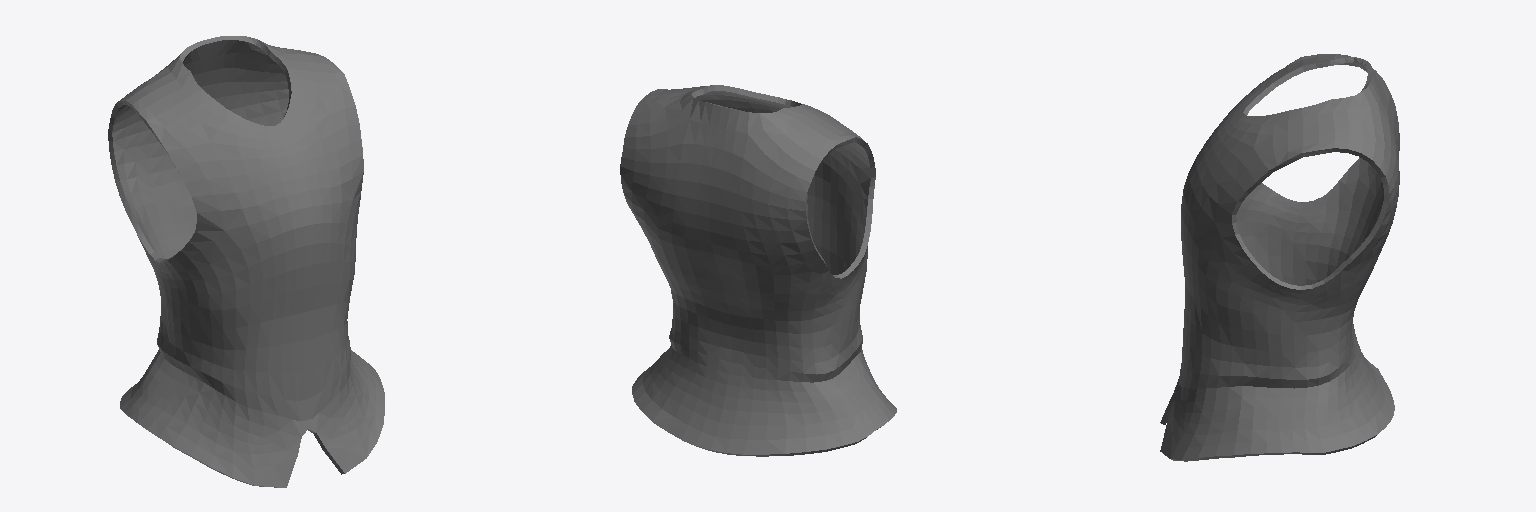
Rendered from LowPoly_FilhaAristocrata_Blusa.obj.
The picture shows the model from 3 angles: view 1: azimuth 30°, elevation 25°; view 2: azimuth 150°, elevation 25°; view 3: azimuth 270°, elevation 25°; orthographic projection.
Parts seen in each view (by area): view 1: LowPoly_FilhaAristocrata_Blusa; view 2: LowPoly_FilhaAristocrata_Blusa; view 3: LowPoly_FilhaAristocrata_Blusa.
Boxes of the visible parts, <box> form: LowPoly_FilhaAristocrata_Blusa: <box>108,36,384,487</box>; LowPoly_FilhaAristocrata_Blusa: <box>620,85,896,456</box>; LowPoly_FilhaAristocrata_Blusa: <box>1160,54,1399,461</box>.
Bounding box in the file's own units: 17 × 25.4 × 15.04.